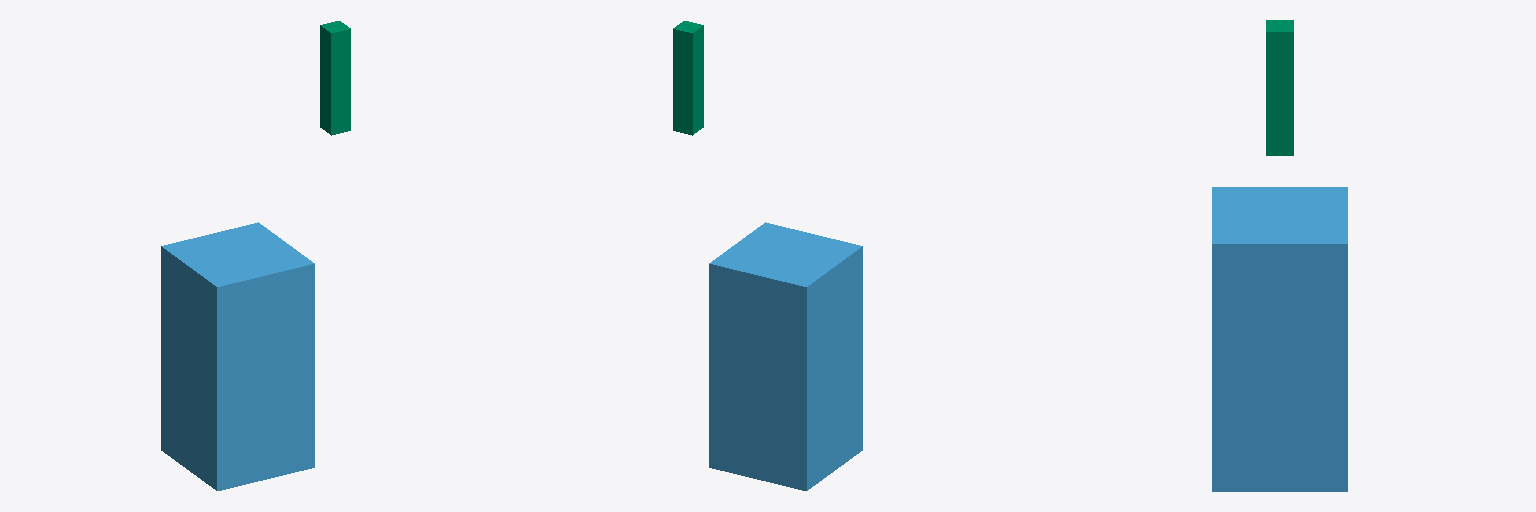
URDF robot description (my_robot):
<?xml version = "1.0" ?>
<robot name = "my_robot" xmlns:xacro = "http://www.ros.org/wiki/xacro">
  <!--dummy link-->
  <link name = "base_link">
  </link>

 <!-- first link-->
  <link name = "chassis">
    <pose>0 0 0 0 0 0</pose>

    <inertial>
      <mass value = "5"/>
      <origin rpy = "0 0 0" xyz = "0 0 0.1"/>
      <inertia ixx="1.0" ixy="0.0" ixz="0.0"
        iyy="1.0" iyz="0.0"
        izz="1.0"/>
    </inertial>

    <collision name = "collision">
      <geometry>
        <box size = "1 1 2"/>
      </geometry>
    </collision>

    <visual name = "visual">
      <origin rpy = "0 0 0" xyz = "0 0 0"/>
      <geometry>
        <box size = "1 1 2"/>
      </geometry>
    </visual>
  </link>

  <link name = "arm">
    <pose>0 0 0 0 0 0</pose>

    <inertial>
      <mass value = "5"/>
      <origin rpy = "0 0 0" xyz = "0 0 0"/>
      <inertia ixx="1.0" ixy="0.0" ixz="0.0"
        iyy="1.0" iyz="0.0"
        izz="1.0"/>
    </inertial>

    <collision name = "collision">
      <origin rpy = "0 0 0" xyz = "0 0 0.5"/>
      <geometry>
        <box size = "0.2 0.2 1"/>
      </geometry>
    </collision>

    <visual name = "visual">
      <origin rpy = "0 0 0" xyz = "0 0 0.5"/>
      <geometry>
        <box size = "0.2 0.2 1"/>
      </geometry>
    </visual>

  </link>

  <joint name = "first_joint" type = "fixed">
    <origin xyz = "0 0 0" rpy = "0 0 0"/>
    <parent link = "base_link"/>
    <child link = "chassis"/>
  </joint>

  <joint name = "joint1" type = "continuous">
  <origin xyz = "1 0 2" rpy = "0 0 0"/>
  <axis rpy="0 0 0" xyz="0 3 0"/>
  <parent link = "chassis"/>
  <child link = "arm"/>
  </joint>



</robot>

--- Render facts (derived) ---
The picture shows the robot from 3 angles, left to right: view 1: azimuth 30°, elevation 25°; view 2: azimuth 150°, elevation 25°; view 3: azimuth 270°, elevation 25°; orthographic projection.
Robot: my_robot — 3 links, 2 joints (1 continuous, 1 fixed); root link base_link; default pose: all joints at 0.
Links seen in each view (by area): view 1: chassis, arm; view 2: chassis, arm; view 3: chassis, arm.
Link boxes in pixels (x1,y1,x2,y2): chassis: [161, 222, 314, 490]; arm: [320, 21, 350, 135]; chassis: [709, 222, 862, 490]; arm: [673, 21, 703, 135]; chassis: [1212, 187, 1347, 491]; arm: [1266, 20, 1293, 155].
Bounding box of the posed robot: 1.6 × 1 × 4 m (x, y, z).
Geometry: primitives only (box / cylinder / sphere), no mesh files.